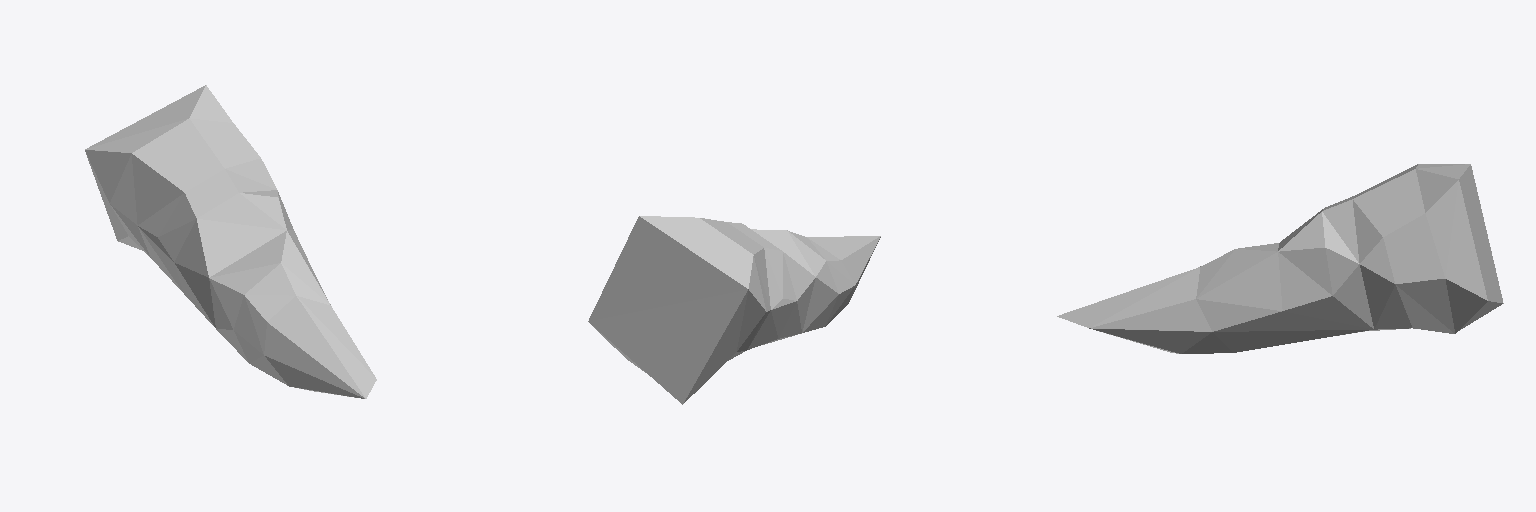
The model's file is wood_col.obj.
3 renders of one model, left to right at view 1: azimuth 30°, elevation 25°; view 2: azimuth 150°, elevation 25°; view 3: azimuth 270°, elevation 25°, orthographic.
Size of the model in its own units: 0.093 by 0.1122 by 0.2371.